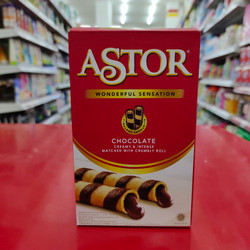Astor Chocolate (40g): (67, 22, 201, 233)
